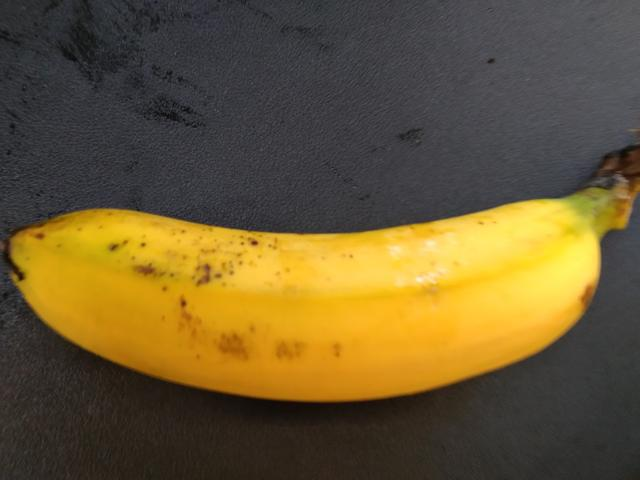ripe: (28, 151, 632, 432)
